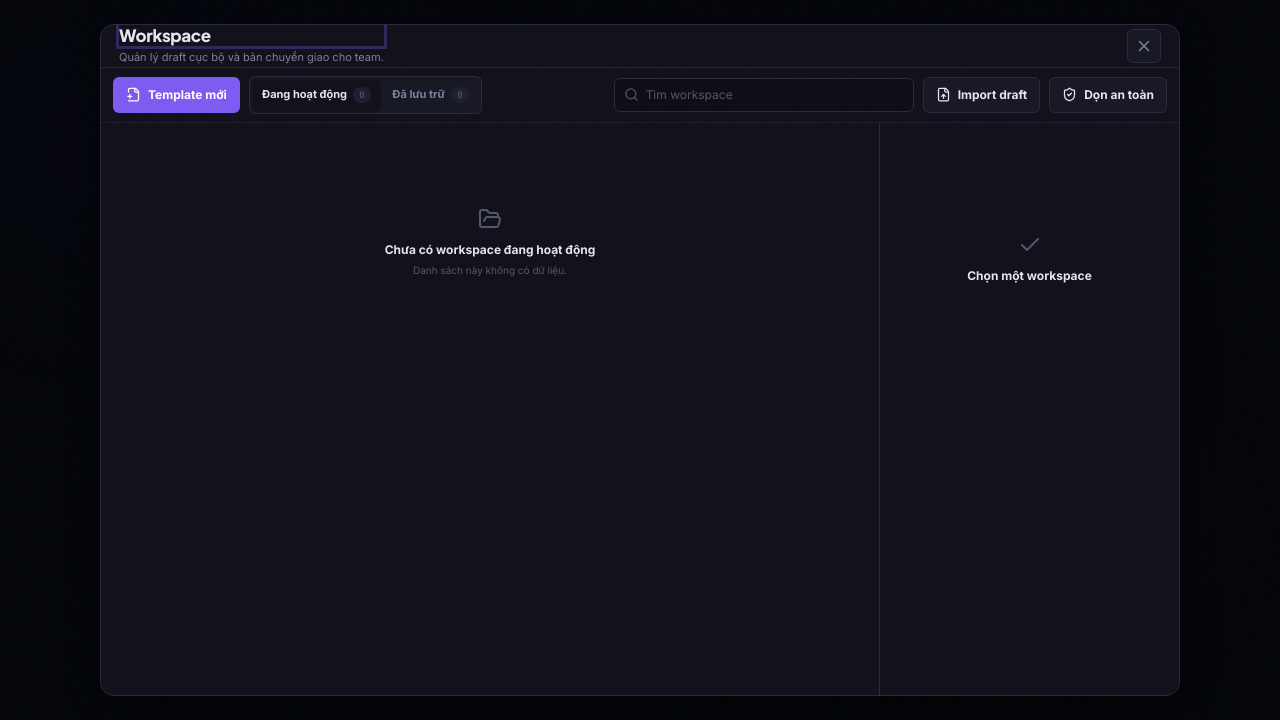
Test: Template Studio workspace manager › shows retention blockers and does not offer apply
Click the button "Dọn an toàn" at (1108, 95), box [1049,77,1167,113]
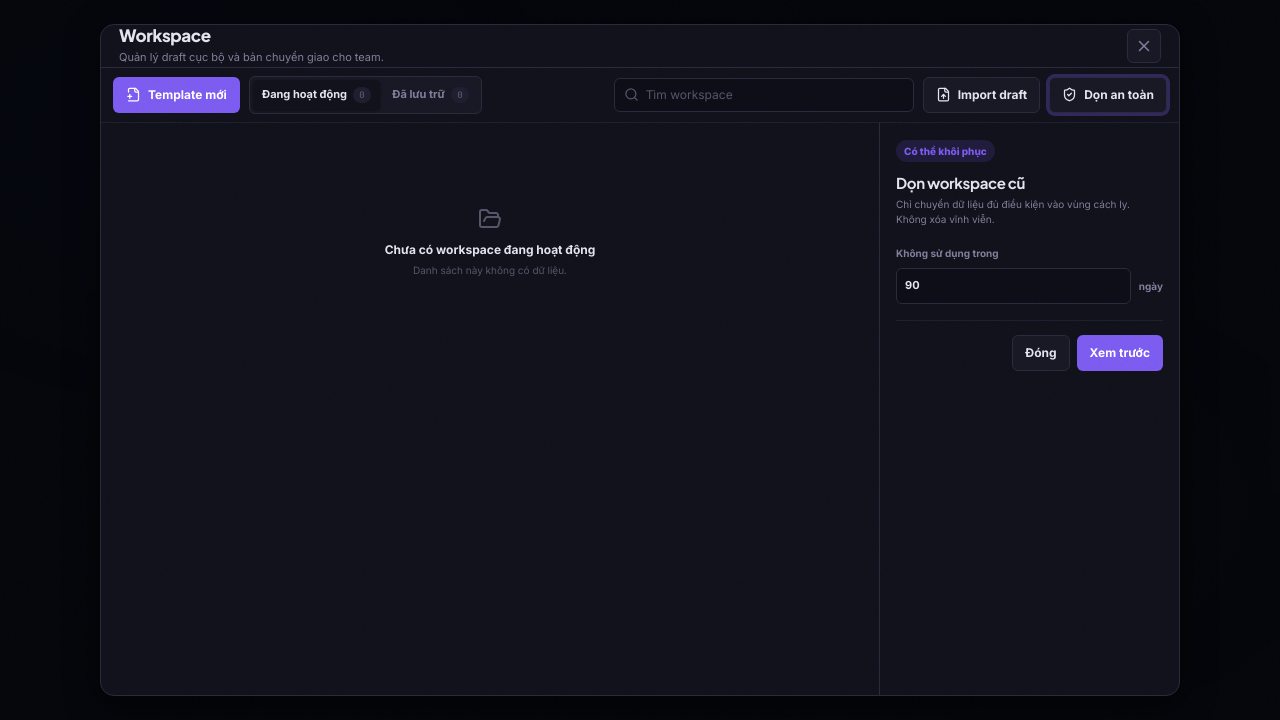
Click the button "Xem trước" at (1120, 353), box [1077,335,1163,371]
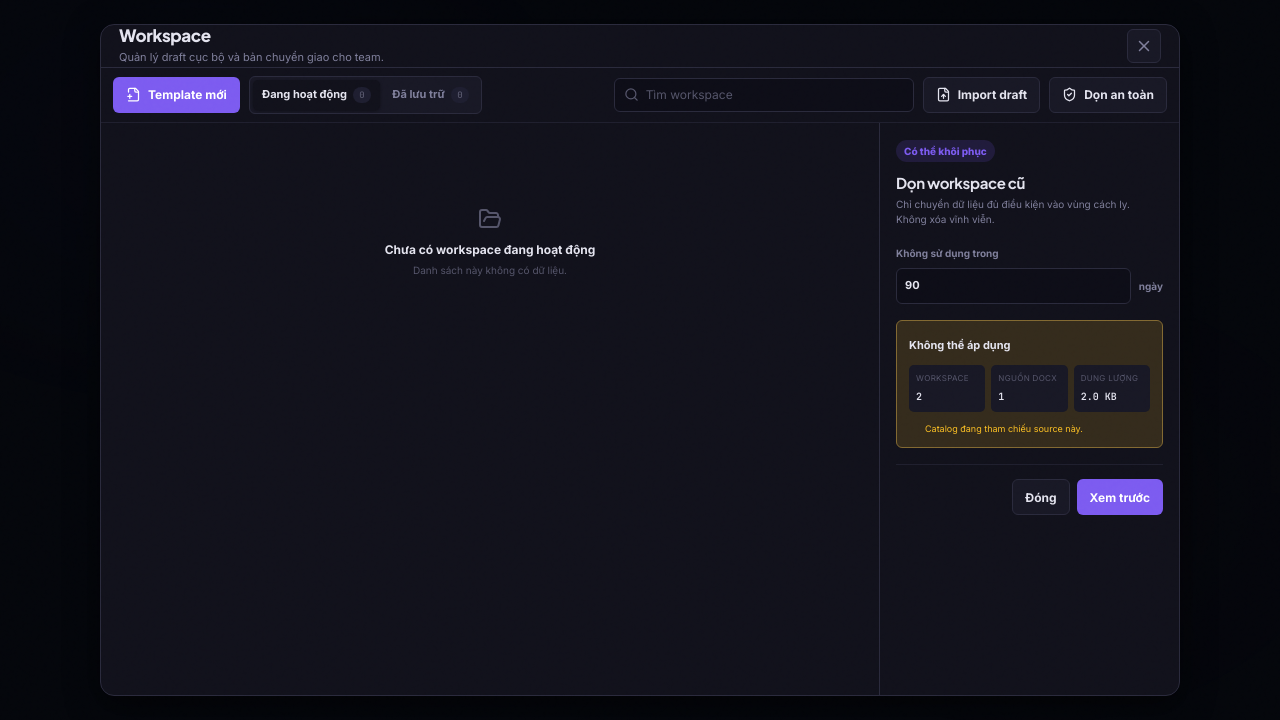
expect the text "Không thể áp dụng" is shown: met, box [909,338,1010,352]
expect the list item "Catalog đang tham chiếu source này." is shown: met, box [925,423,1083,434]
